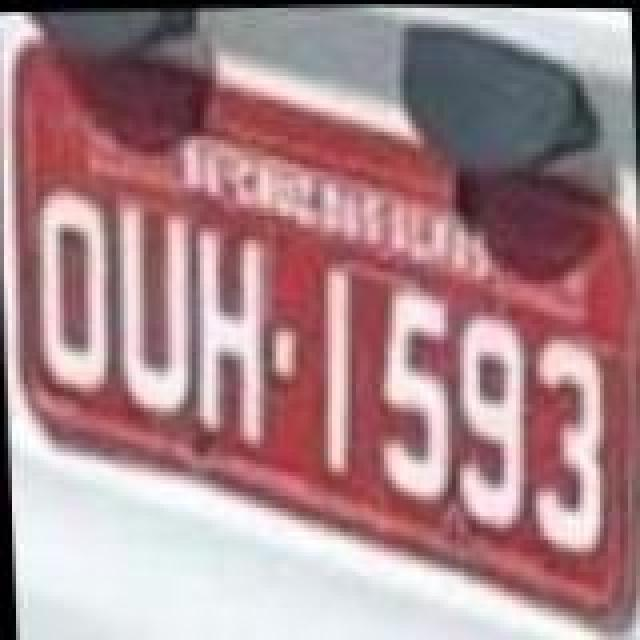1: (310, 262, 362, 482)
3: (520, 330, 612, 554)
5: (366, 280, 458, 504)
9: (444, 308, 536, 540)
H: (192, 222, 276, 446)
O: (30, 178, 114, 398)
U: (110, 200, 198, 424)
